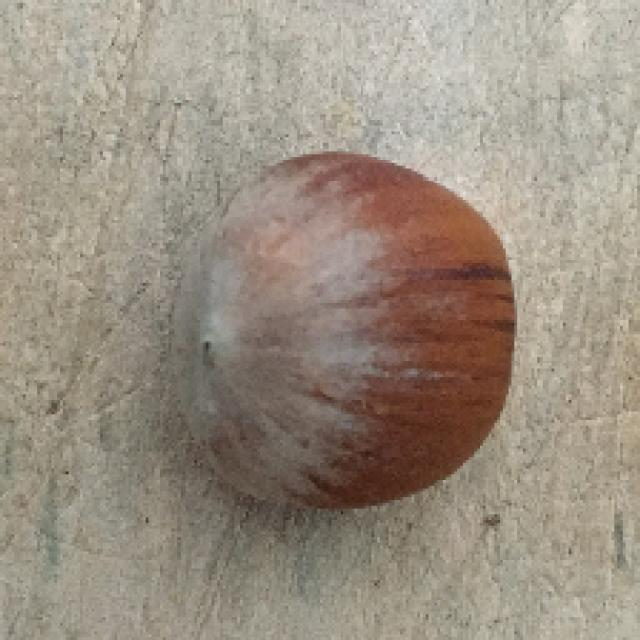qualityHazelnut: (164, 153, 515, 514)
